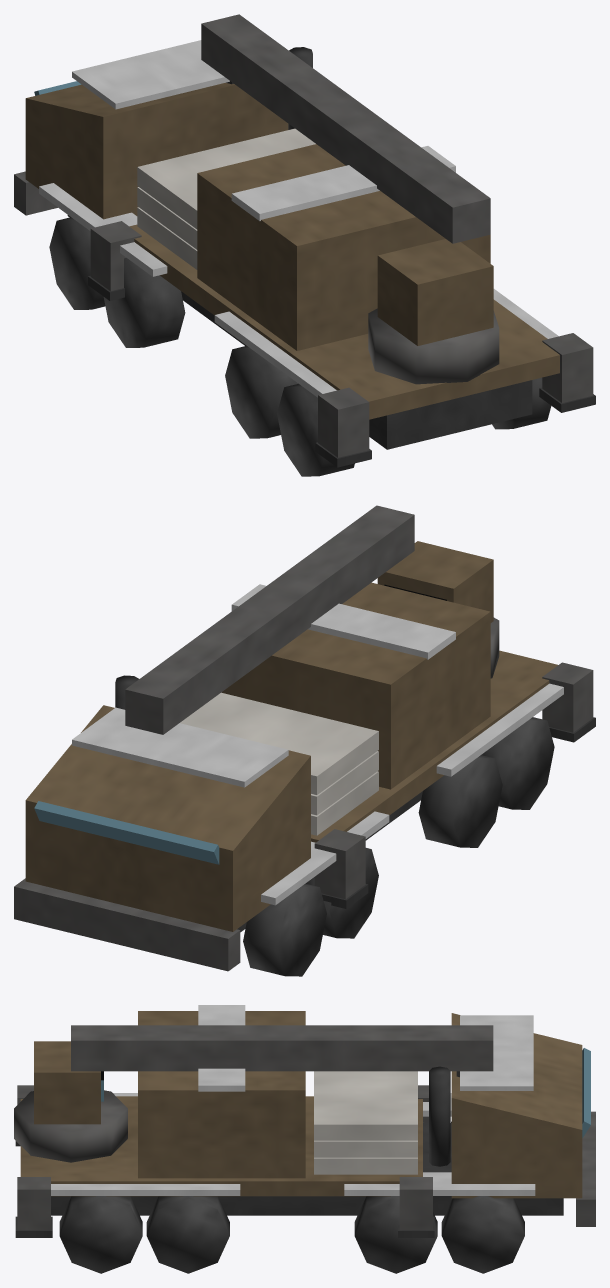
Rendered from builder.glb.
The picture shows the model from 3 angles, top to bottom: view 1: azimuth 30°, elevation 25°; view 2: azimuth 150°, elevation 25°; view 3: azimuth 270°, elevation 25°; orthographic projection. The views are drawn at different scales.
Parts seen in each view (by area): view 1: hull; view 2: hull; view 3: hull.
Boxes of the visible parts, bbox=[...] form: hull: bbox=[14, 14, 595, 476]; hull: bbox=[14, 505, 595, 976]; hull: bbox=[14, 1005, 595, 1273].
Size of the model in its own units: 3.74 by 3.45 by 8.68.
Materials: 2 (2 with a texture image).
